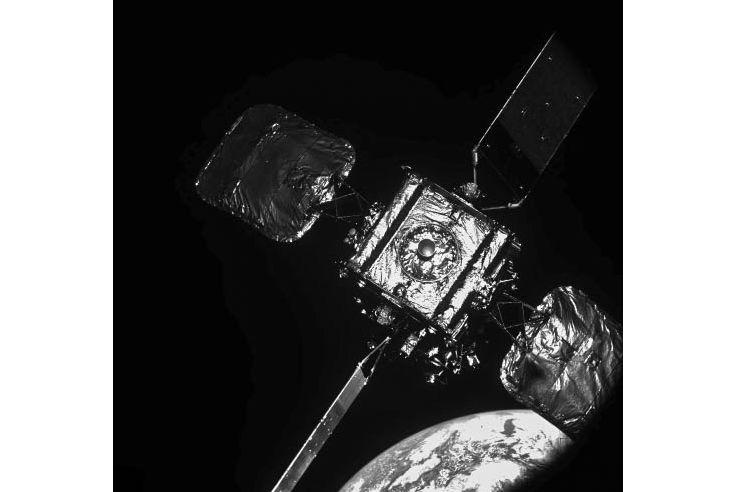antenna: (193, 103, 358, 243), (498, 283, 623, 439)
body: (341, 170, 514, 386)
solar: (471, 27, 602, 202), (271, 364, 370, 492)
thruster: (416, 238, 436, 260)
